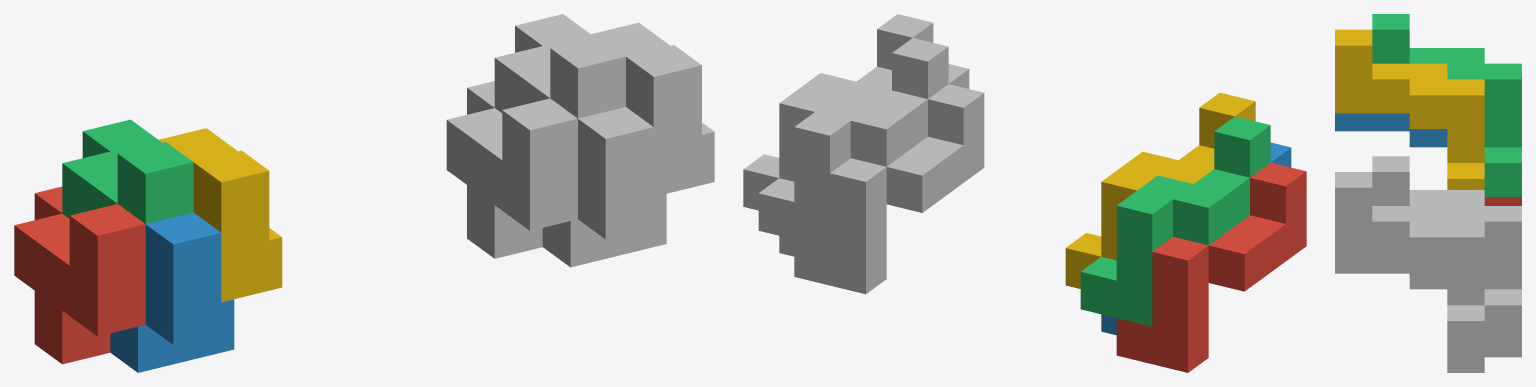
The model's file is tiling.obj.
3 views of the same model, side by side, from view 1: azimuth 30°, elevation 25°; view 2: azimuth 150°, elevation 25°; view 3: azimuth 270°, elevation 25° (orthographic). The views are drawn at different scales.
Parts seen in each view (by area): view 1: copy_1_domain_1, copy_1_domain_5, copy_1_domain_2, copy_1_domain_6, copy_1_domain_4, copy_1_domain_8, copy_1_domain_3, copy_1_domain_7; view 2: copy_1_domain_1, copy_1_domain_5, copy_1_domain_3, copy_1_domain_7, copy_1_domain_4, copy_1_domain_8, copy_1_domain_6, copy_1_domain_2; view 3: copy_1_domain_8, copy_1_domain_4, copy_1_domain_3, copy_1_domain_7, copy_1_domain_6, copy_1_domain_2, copy_1_domain_5, copy_1_domain_1.
Boxes of the visible parts, bbox=[...] form: copy_1_domain_1: bbox=[14, 186, 145, 364]; copy_1_domain_5: bbox=[446, 81, 577, 258]; copy_1_domain_2: bbox=[110, 212, 234, 372]; copy_1_domain_6: bbox=[542, 107, 666, 267]; copy_1_domain_4: bbox=[158, 128, 282, 302]; copy_1_domain_8: bbox=[591, 22, 714, 196]; copy_1_domain_3: bbox=[62, 119, 193, 223]; copy_1_domain_7: bbox=[494, 14, 625, 118]; copy_1_domain_1: bbox=[1116, 163, 1306, 372]; copy_1_domain_5: bbox=[794, 84, 984, 294]; copy_1_domain_3: bbox=[1080, 116, 1270, 326]; copy_1_domain_7: bbox=[758, 38, 948, 247]; copy_1_domain_4: bbox=[1065, 92, 1255, 288]; copy_1_domain_8: bbox=[743, 14, 933, 210]; copy_1_domain_6: bbox=[779, 64, 969, 256]; copy_1_domain_2: bbox=[1101, 142, 1291, 335]; copy_1_domain_8: bbox=[1335, 172, 1484, 354]; copy_1_domain_4: bbox=[1335, 29, 1484, 189]; copy_1_domain_3: bbox=[1372, 14, 1521, 196]; copy_1_domain_7: bbox=[1372, 156, 1521, 338]; copy_1_domain_6: bbox=[1335, 255, 1484, 372]; copy_1_domain_2: bbox=[1335, 113, 1447, 147]; copy_1_domain_5: bbox=[1484, 339, 1521, 357]; copy_1_domain_1: bbox=[1484, 197, 1521, 205].
Size of the model in its own units: 14 by 5 by 5.
